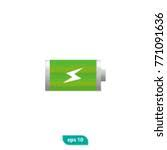charging sign: (23, 50, 127, 103)
